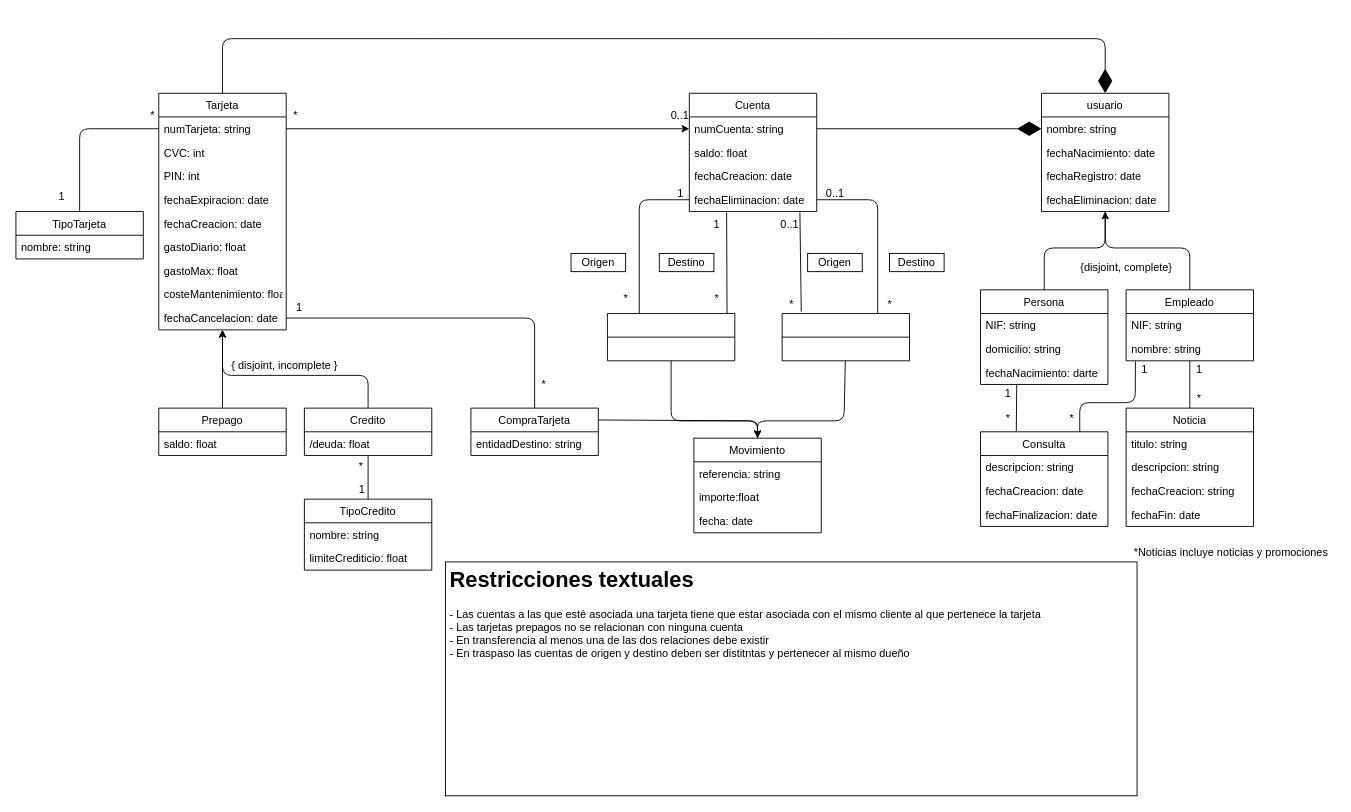
Image size: 1351x812. Some labels were removed from this diagram. The shapes that lost their labels are listed below. From the top down, each one's centre as x and y in pixels, then its label:
At [671,337]: "Traspaso".
At [845,337]: "Transferencia".
